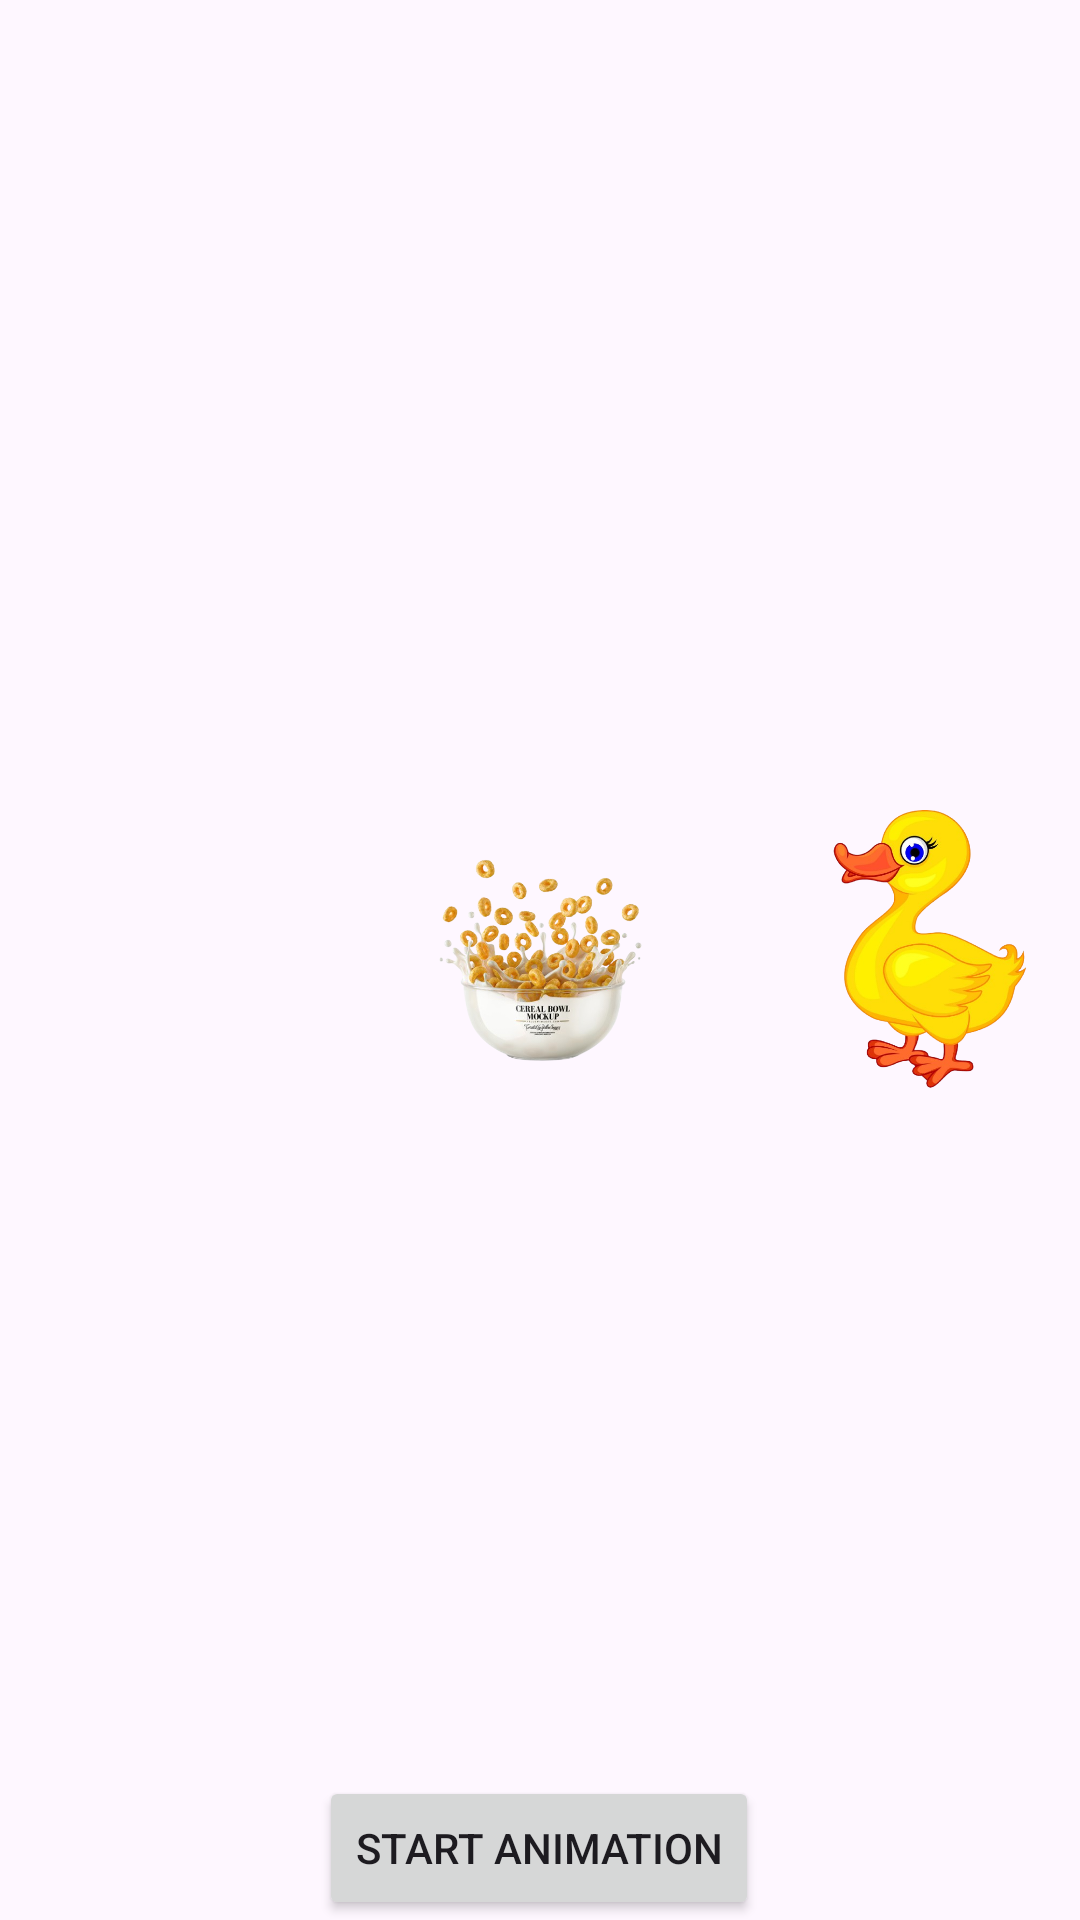

Screen size 1080 x 1920. Icon name, then its center in pixels as point (x, y):
duck: point (929, 949)
